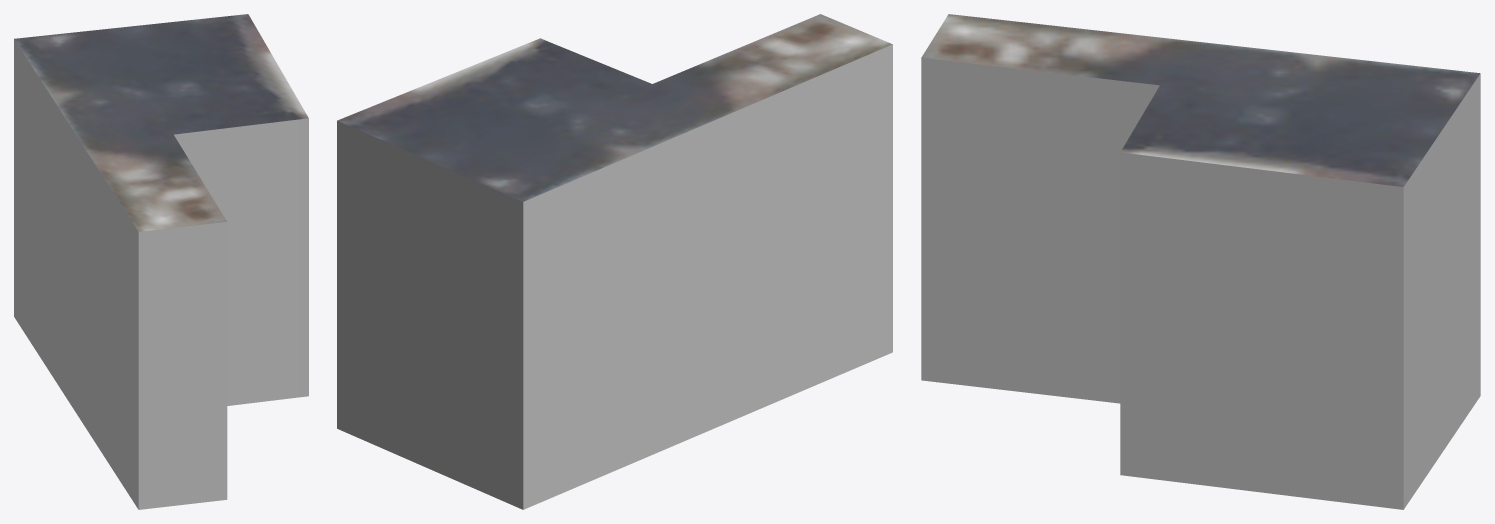
The model's file is DEBW_0010007Tx5F.gltf.
The picture shows the model from 3 angles, left to right: view 1: azimuth 30°, elevation 25°; view 2: azimuth 150°, elevation 25°; view 3: azimuth 270°, elevation 25°; orthographic projection. The views are drawn at different scales.
Visible parts, largest first — view 1: Z_UP; view 2: Z_UP; view 3: Z_UP.
Part boxes in pixels (x1,y1,x2,y2): Z_UP: (14,14,308,509); Z_UP: (337,14,892,509); Z_UP: (921,14,1480,509).
Size of the model in its own units: 12.78 by 11.11 by 17.44.
Materials: 2 (1 with a texture image).
